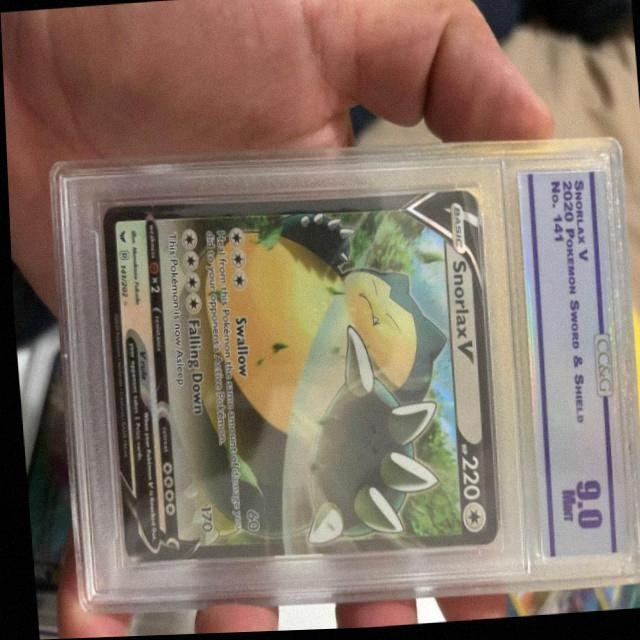card: (100, 189, 494, 566)
